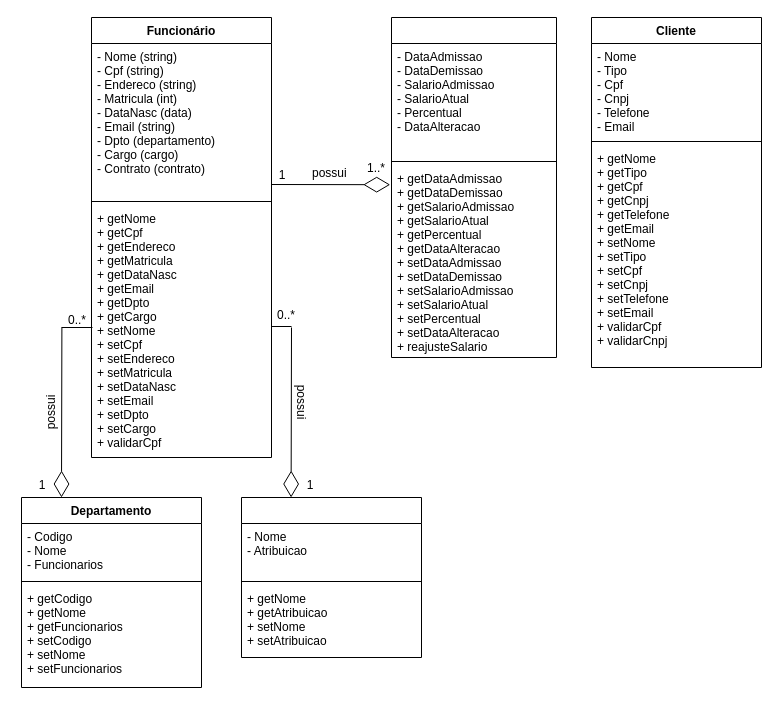
The diagram is 779 pixels wide and 708 high, and some of its shapes have lost their labels. The shapes that lost their labels are listed below. From the top down, each one's box as (x1, y1, x2, y2) in pixels, then its label:
(390, 16, 556, 358): Contrato
(240, 496, 422, 658): Cargo
